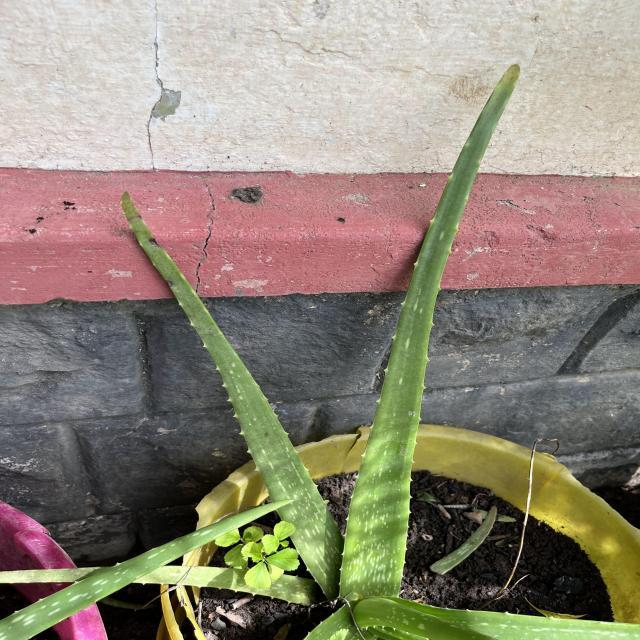Aloe vera: (335, 62, 527, 600), (117, 183, 344, 596)
